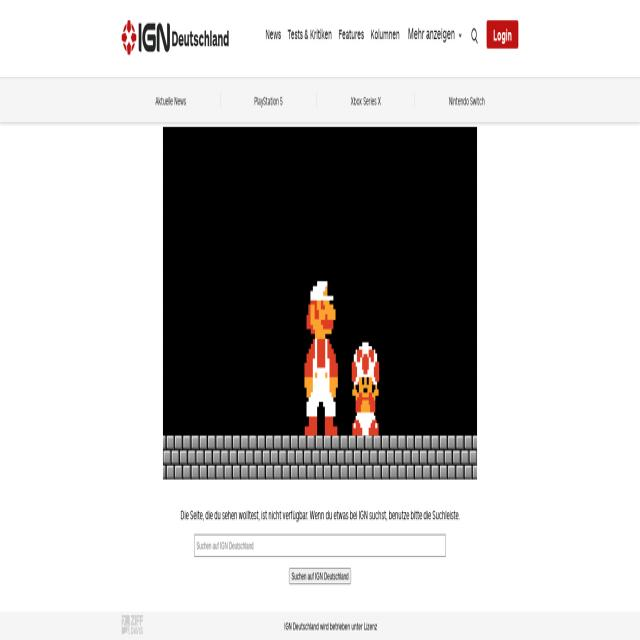button: (163, 126, 477, 482), (415, 78, 518, 122), (220, 78, 316, 124), (318, 79, 414, 123), (126, 78, 220, 122), (404, 20, 464, 52), (122, 20, 170, 55), (285, 21, 335, 50), (289, 568, 351, 585), (368, 21, 404, 48), (487, 20, 518, 49), (336, 22, 368, 49), (118, 611, 147, 640), (261, 20, 285, 49), (469, 21, 479, 47)
field: (194, 535, 446, 557)
